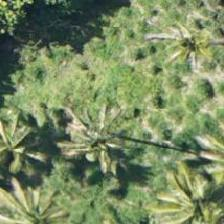coconut_tree: (59, 92, 149, 182), (138, 0, 223, 87), (0, 97, 60, 187), (151, 164, 223, 223)
